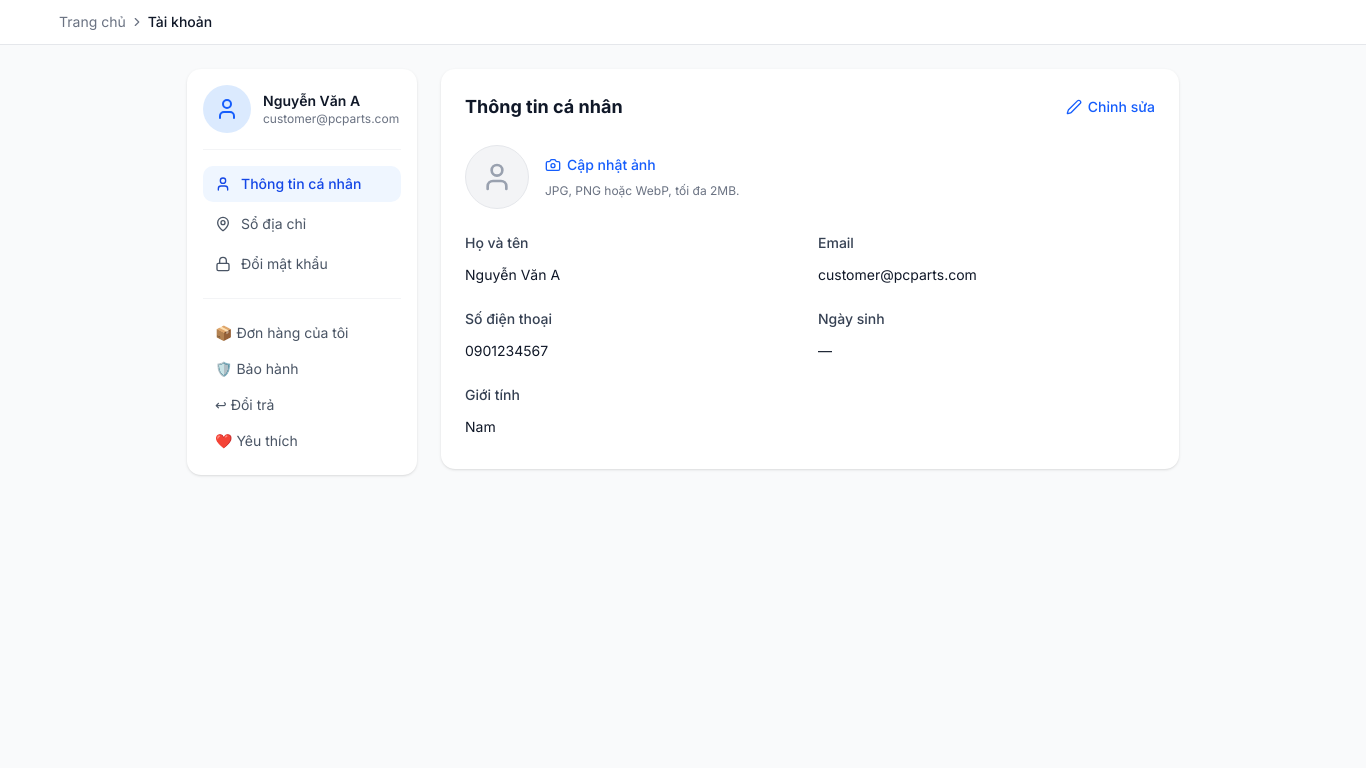
ProfilePage › updates profile through /users/me with only editable profile fields
Click the button "Chỉnh sửa" at (1110,107), box [1066, 97, 1155, 117]
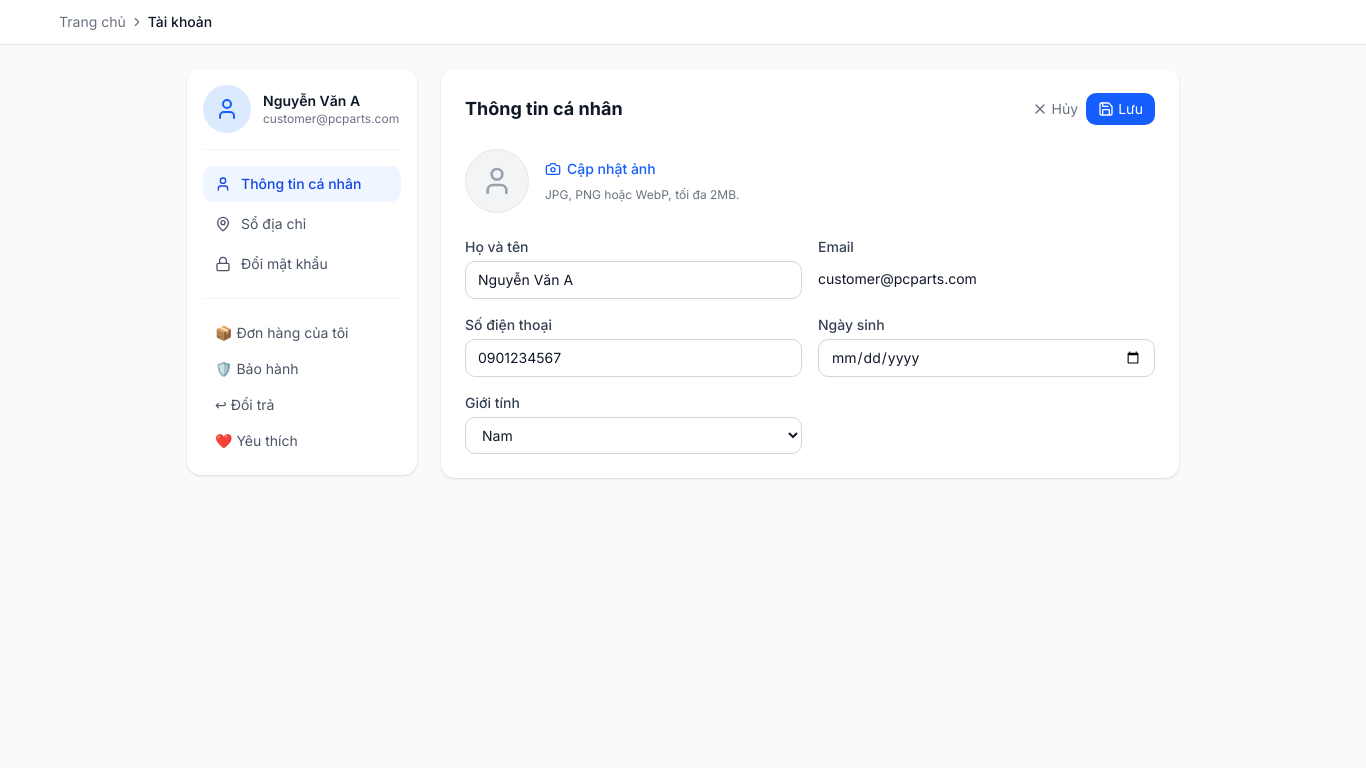
Replace the text in the field labelled "Họ và tên" with "Nguyễn Văn B" at (634,280), box [465, 261, 802, 299]
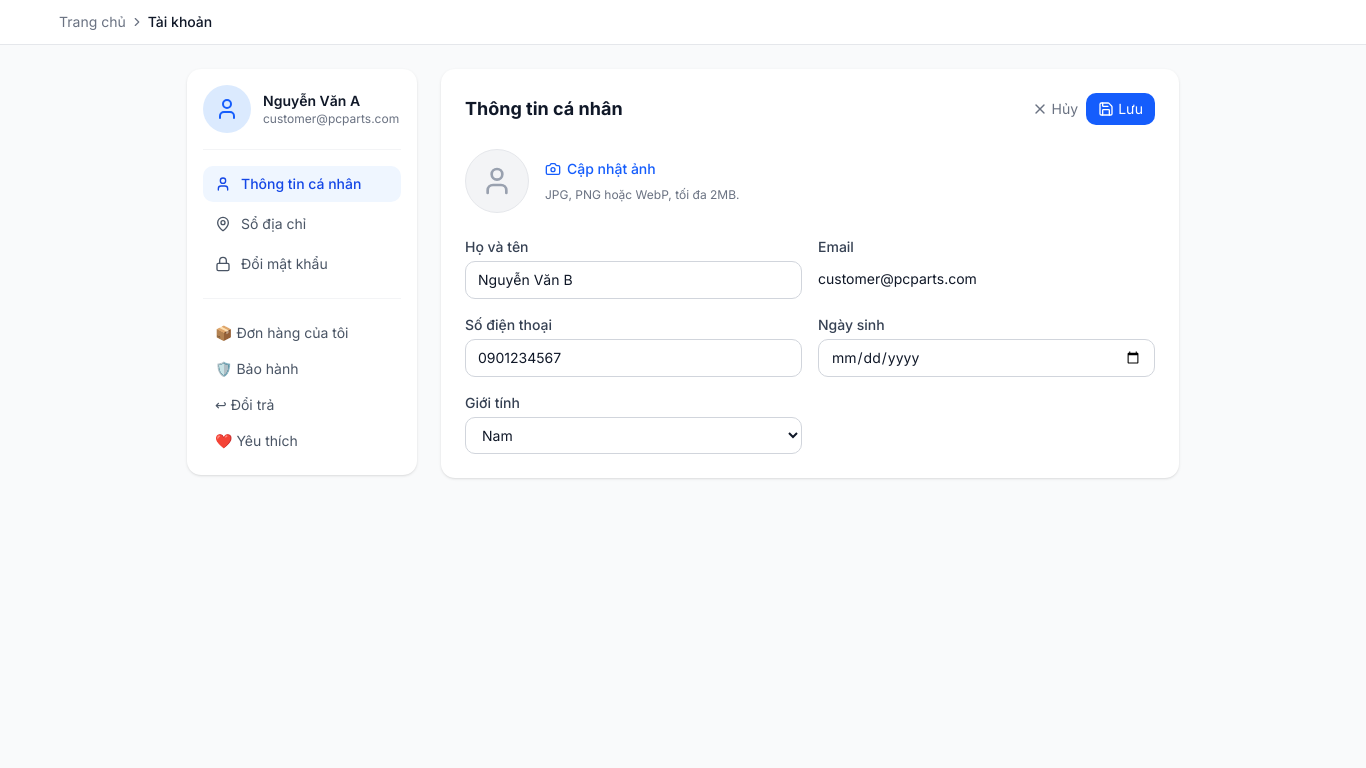
Replace the text in the field labelled "Số điện thoại" with "0907654321" at (634,358), box [465, 339, 802, 377]
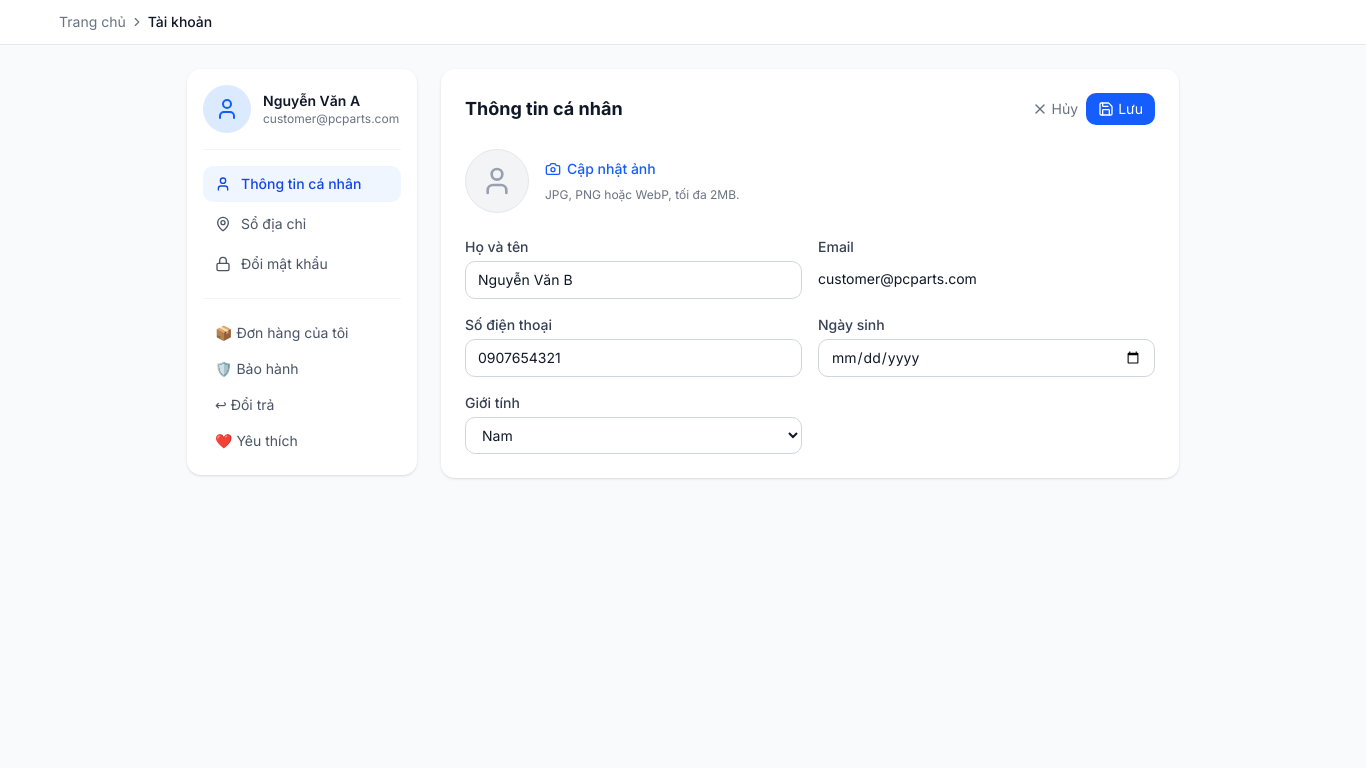
Type "1995-05-15" into the date field labelled "Ngày sinh" at (986,358), box [818, 339, 1155, 377]
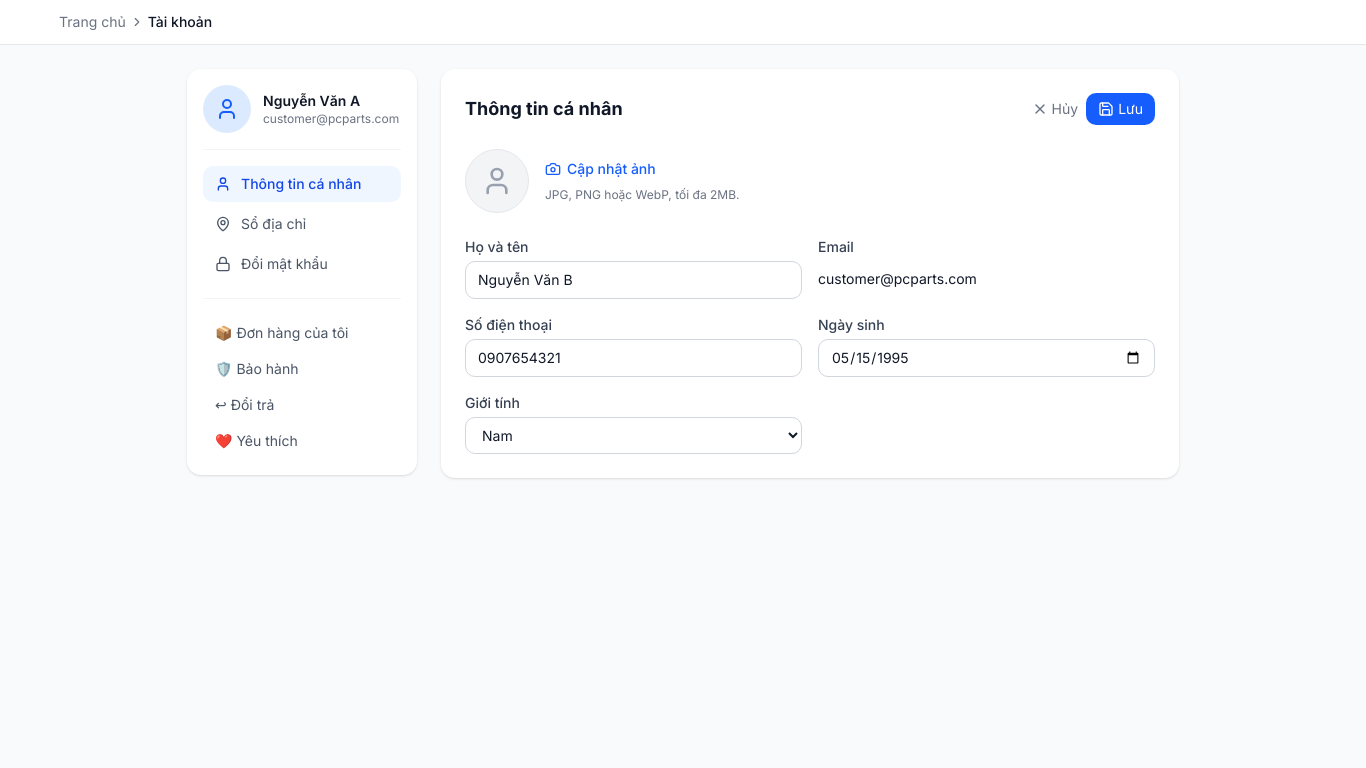
Select "Nữ" in the dropdown labelled "Giới tính" at (634,436), box [465, 417, 802, 454]
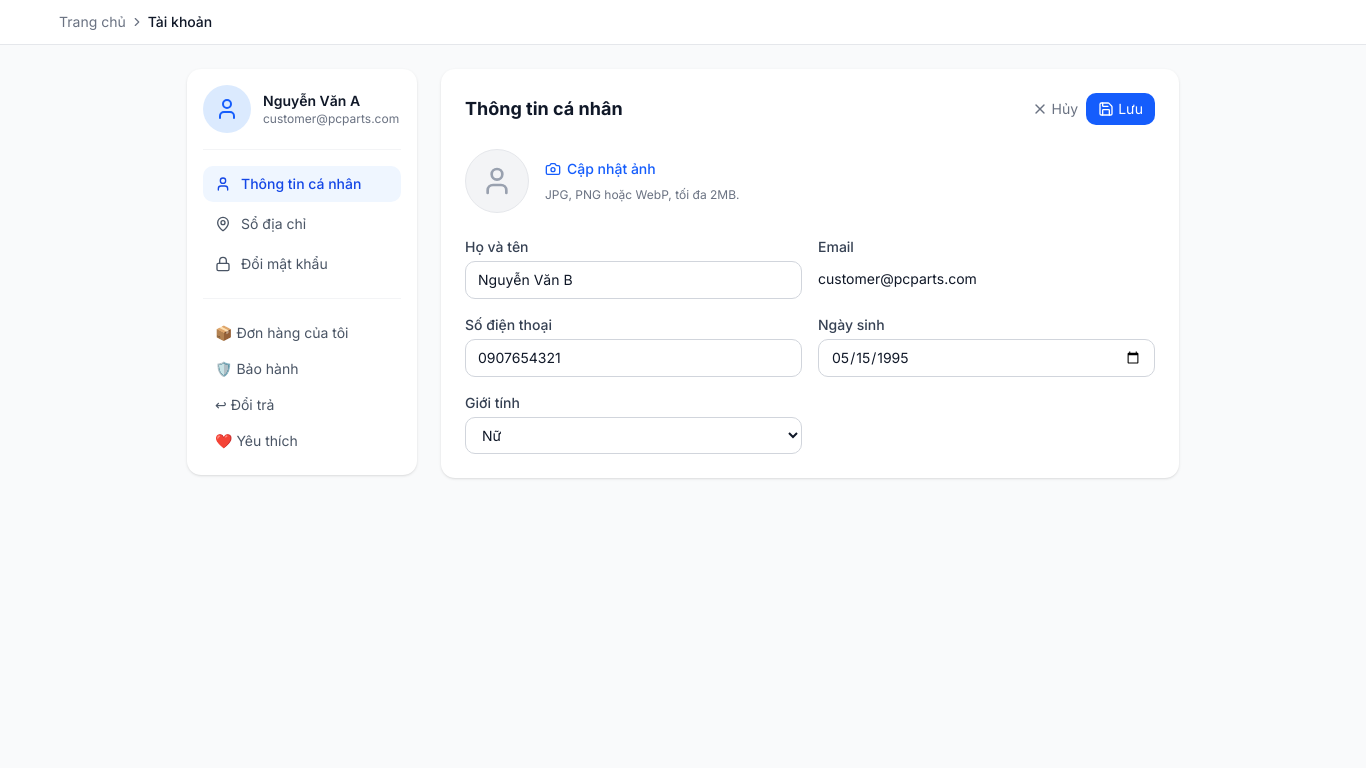
Click the button "Lưu" at (1121,109), box [1086, 93, 1155, 125]
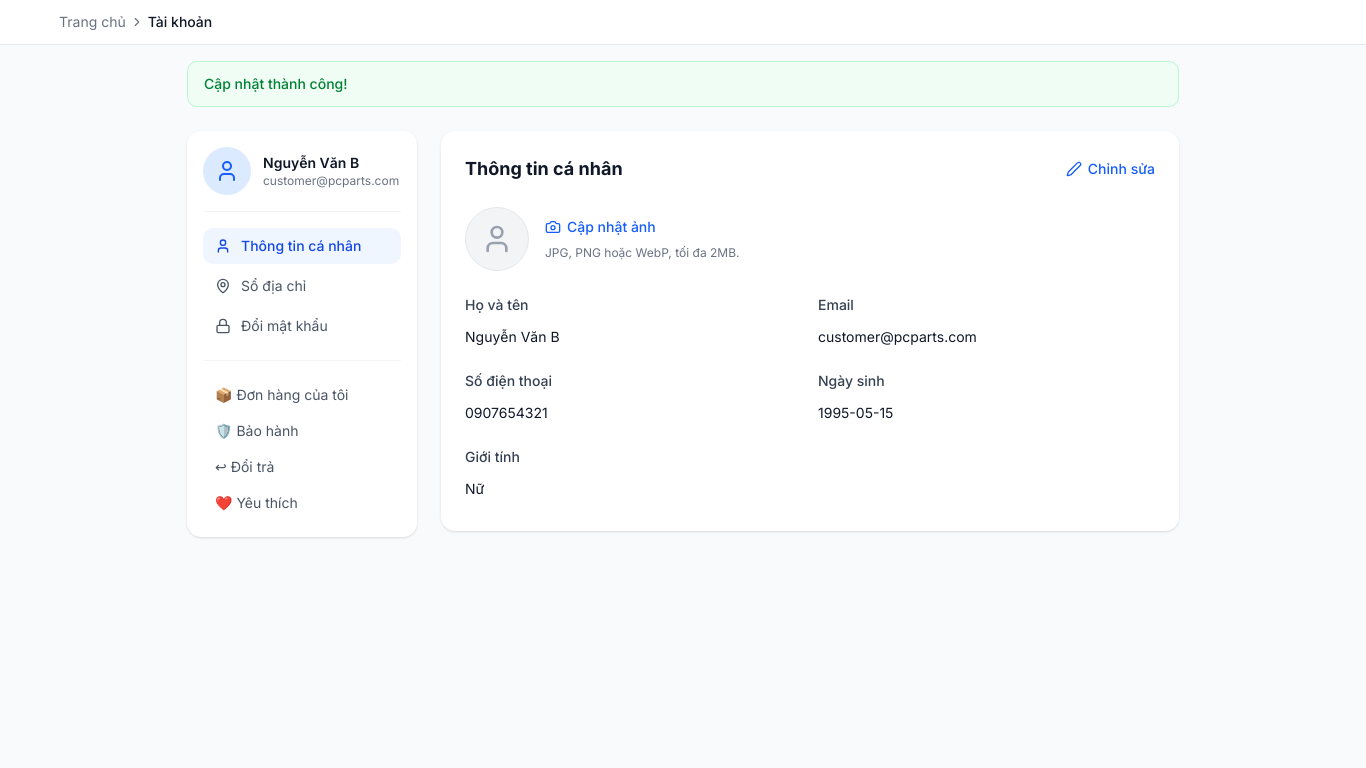
Expected: the 1st text "Nguyễn Văn A" reads "Nguyễn Văn B", [263, 154, 359, 171]
